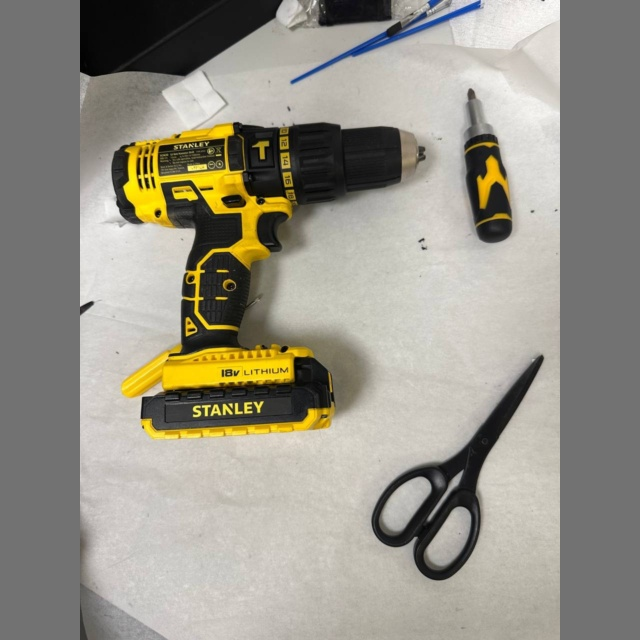drill: (111, 122, 416, 438)
scissor: (372, 355, 543, 580)
screwdriver: (464, 88, 512, 243)
